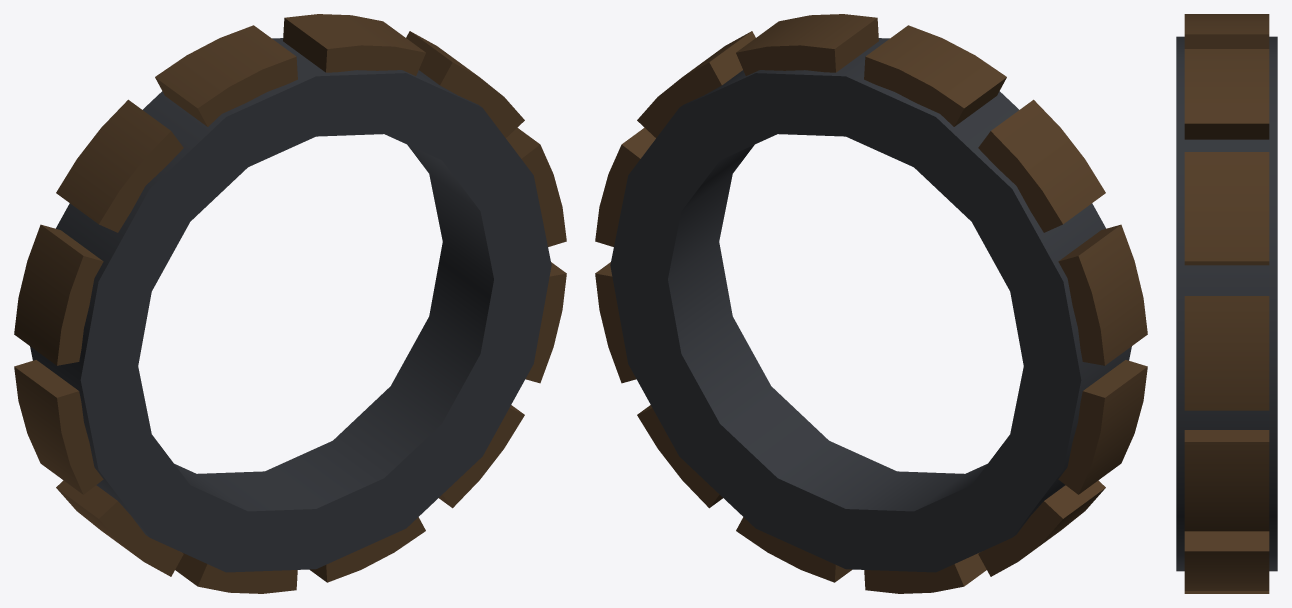
The model's file is cr1_coil_ring.obj.
3 views of the same model, side by side, from view 1: azimuth 30°, elevation 25°; view 2: azimuth 150°, elevation 25°; view 3: azimuth 270°, elevation 25° (orthographic).
Visible parts, largest first — view 1: cr1_coil_ring; view 2: cr1_coil_ring; view 3: cr1_coil_ring.
Boxes of the visible parts, bbox=[...] form: cr1_coil_ring: bbox=[14, 14, 566, 593]; cr1_coil_ring: bbox=[595, 14, 1147, 593]; cr1_coil_ring: bbox=[1176, 14, 1277, 593].
Bounding box in the file's own units: 4.87 × 4.87 × 0.85.
